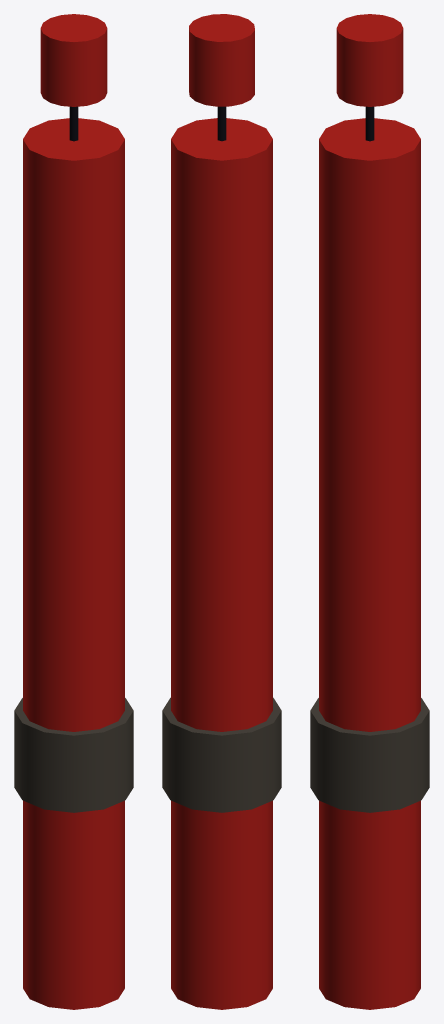
File: pile_red_cylinder.glb
3 views of the same model, side by side, from view 1: azimuth 90°, elevation 25°; view 2: azimuth 150°, elevation 25°; view 3: azimuth 270°, elevation 25° (orthographic).
Visible parts, largest first — view 1: pile_red_cylinder; view 2: pile_red_cylinder; view 3: pile_red_cylinder.
Part boxes in pixels (<box>): pile_red_cylinder: <box>14,14,133,1009</box>; pile_red_cylinder: <box>162,14,281,1009</box>; pile_red_cylinder: <box>310,14,429,1009</box>.
Bounding box in the file's own units: 0.7001 × 6.22 × 0.7001.
